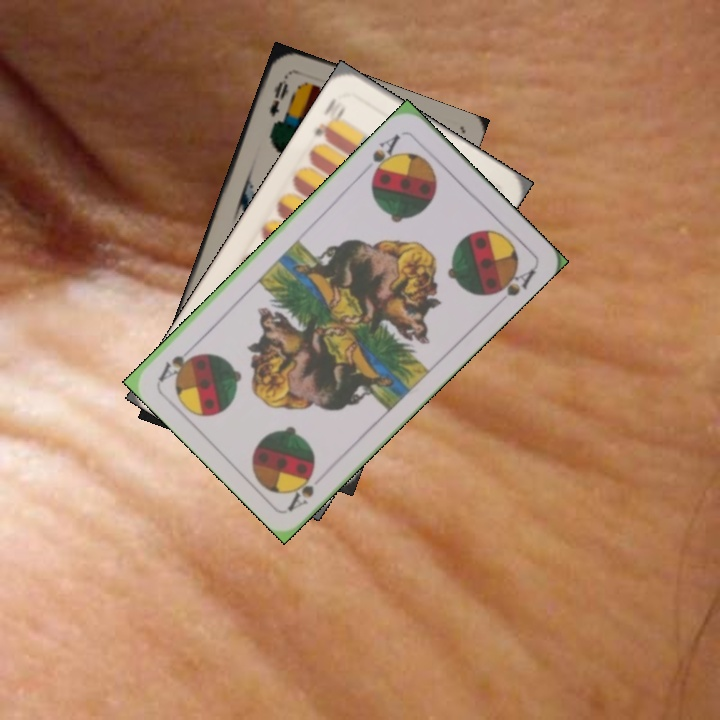E10: (310, 94, 348, 143)
EO: (265, 72, 292, 119)
SA: (367, 129, 404, 182), (284, 464, 318, 513)
